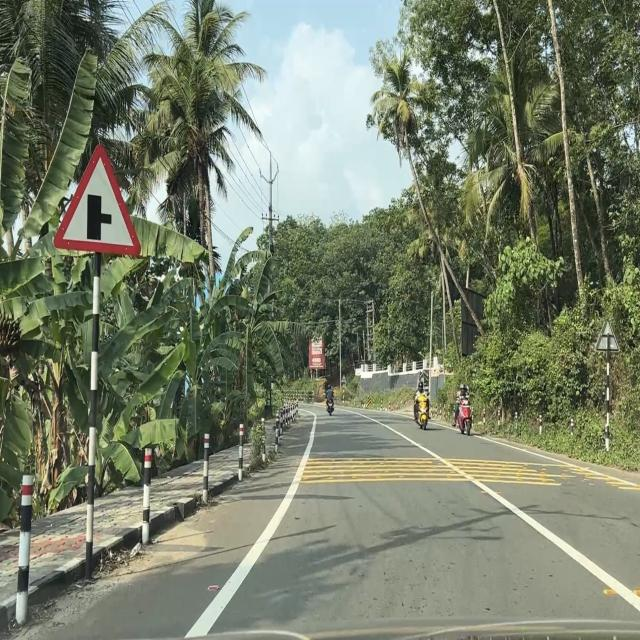SIDE_ROAD_RIGHT: (53, 143, 142, 258)
